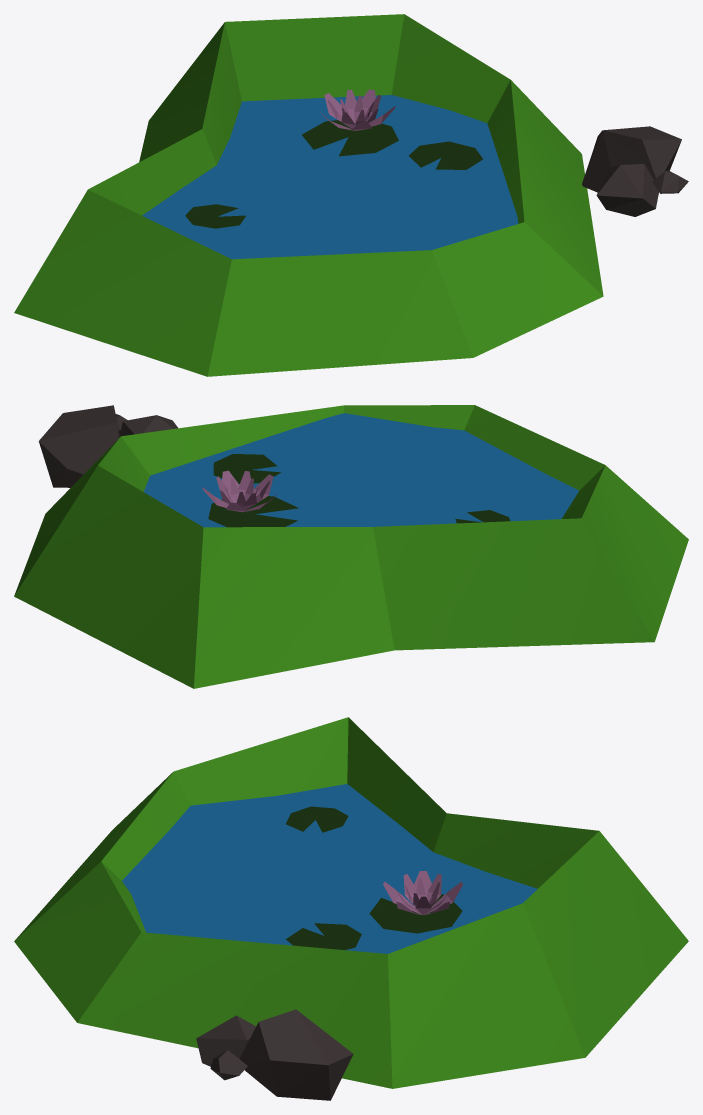
The model's file is goodBig_lakeA.FBX.
3 renders of one model, top to bottom at view 1: azimuth 30°, elevation 25°; view 2: azimuth 150°, elevation 25°; view 3: azimuth 270°, elevation 25°, orthographic. The views are drawn at different scales.
Parts seen in each view (by area): view 1: goodBig_lakeA; view 2: goodBig_lakeA; view 3: goodBig_lakeA.
Part boxes in pixels (x1,y1,x2,y2): goodBig_lakeA: [14, 14, 688, 376]; goodBig_lakeA: [14, 405, 688, 688]; goodBig_lakeA: [14, 717, 688, 1100].
Bounding box in the file's own units: 536 × 99.96 × 478.
